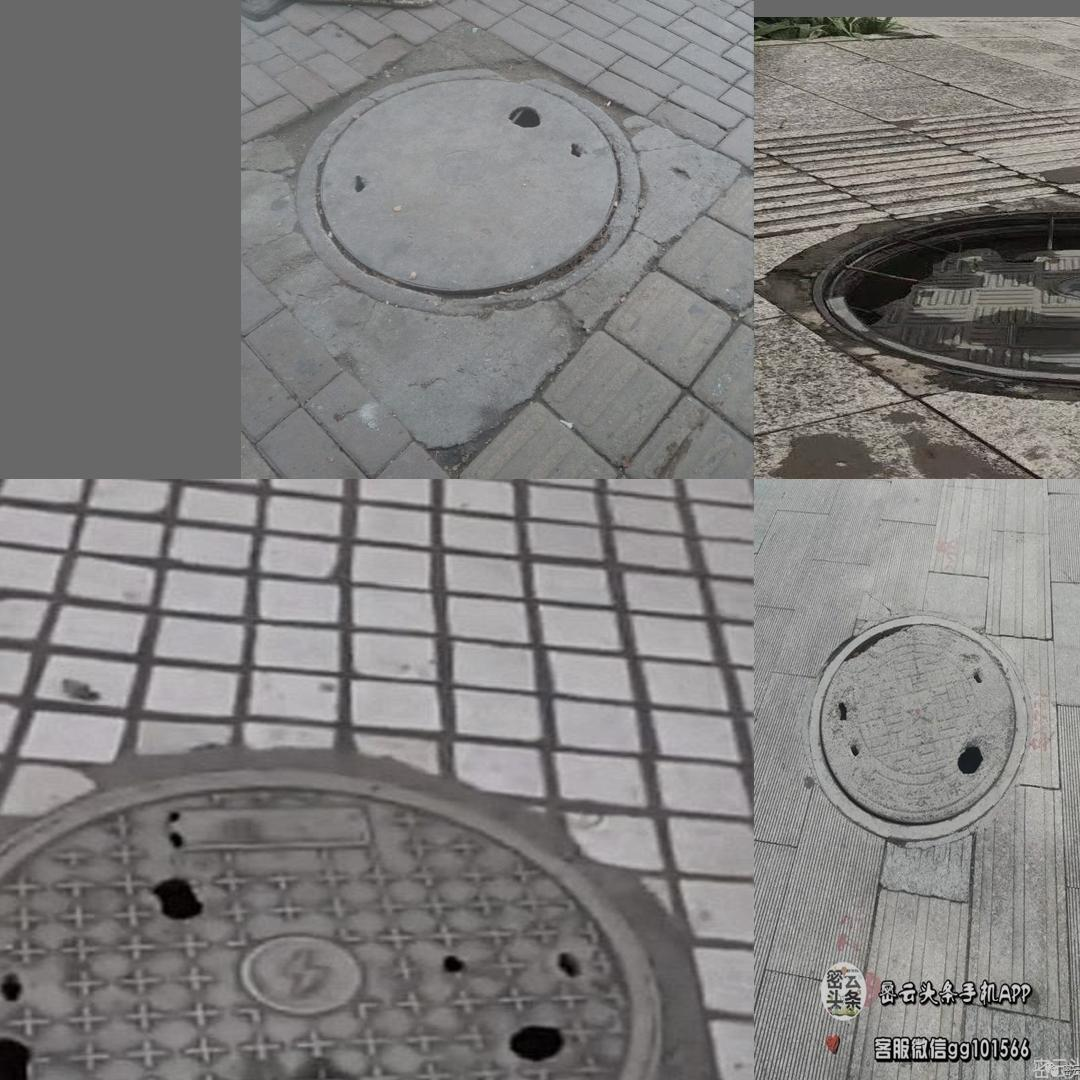broke: (0, 779, 665, 1080), (291, 68, 642, 317), (792, 590, 1042, 850), (809, 206, 1080, 389)
